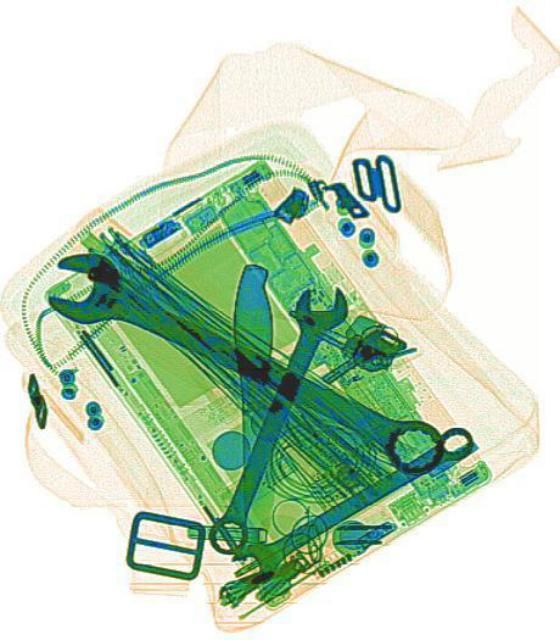Knife: (229, 263, 276, 547)
Wrench: (37, 237, 453, 485), (197, 274, 353, 562), (223, 417, 477, 593)
